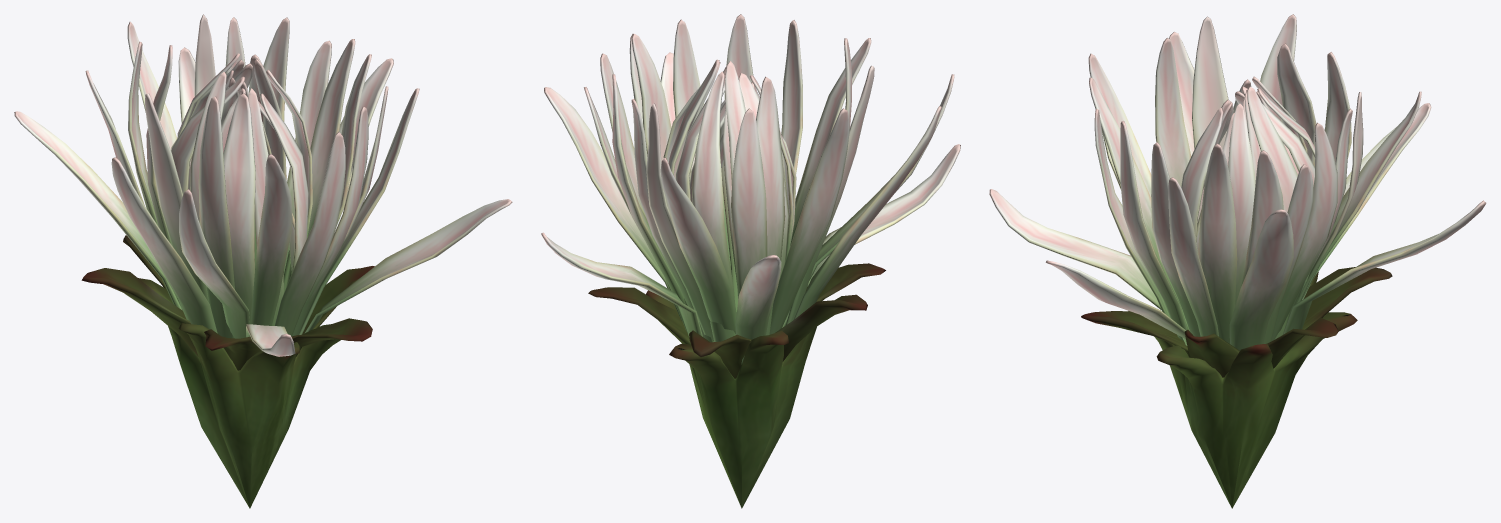
3 renders of one model, left to right at view 1: azimuth 30°, elevation 25°; view 2: azimuth 150°, elevation 25°; view 3: azimuth 270°, elevation 25°, orthographic. The views are drawn at different scales.
Visible parts, largest first — view 1: Cactus_Flower_convert; view 2: Cactus_Flower_convert; view 3: Cactus_Flower_convert.
Part boxes in pixels (bbox=[...]): Cactus_Flower_convert: bbox=[14, 14, 512, 508]; Cactus_Flower_convert: bbox=[541, 14, 960, 508]; Cactus_Flower_convert: bbox=[989, 14, 1486, 508].
Size of the model in its own units: 0.3841 by 0.5005 by 0.5113.
1 material, 1 textured.
